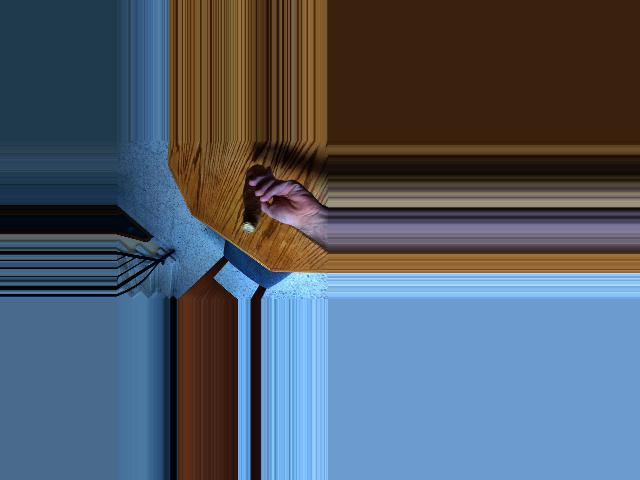sweet_potato: (239, 165, 269, 234)
